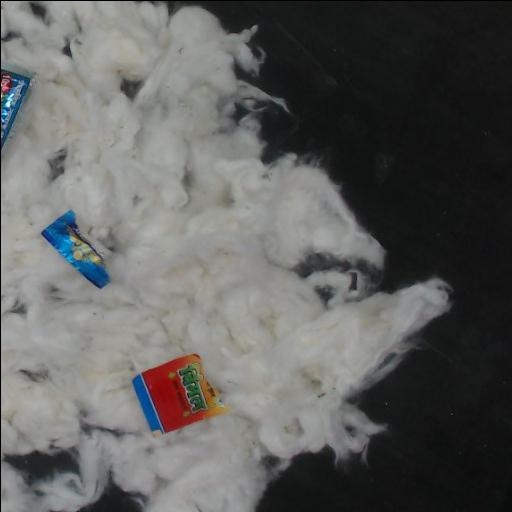conveyor belt: (167, 1, 512, 512)
cotton: (1, 1, 451, 512)
packet: (132, 354, 224, 432), (41, 210, 108, 288), (1, 69, 29, 148)
